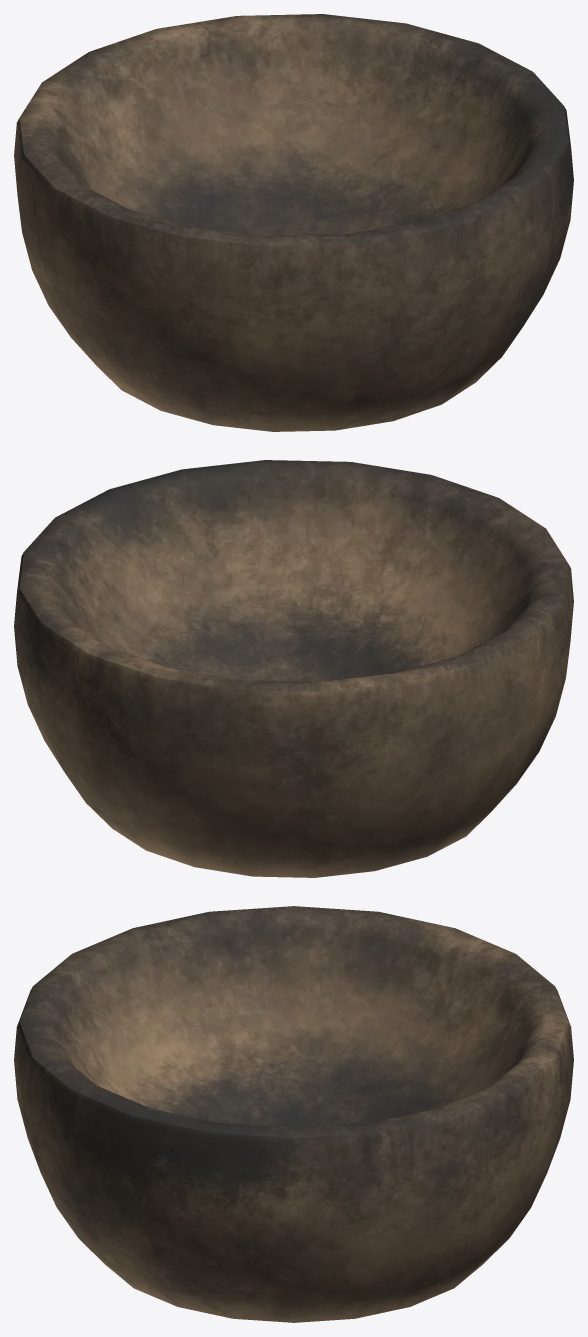
Rendered from fire_bowl.glb.
3 renders of one model, top to bottom at view 1: azimuth 30°, elevation 25°; view 2: azimuth 150°, elevation 25°; view 3: azimuth 270°, elevation 25°, orthographic.
Parts seen in each view (by area): view 1: defaultMaterial; view 2: defaultMaterial; view 3: defaultMaterial.
Part boxes in pixels (x1=…): defaultMaterial: x1=14, y1=14, x2=573, y2=431; defaultMaterial: x1=14, y1=460, x2=573, y2=877; defaultMaterial: x1=14, y1=906, x2=573, y2=1322.
Bounding box in the file's own units: 50 × 21.59 × 50.
Materials: 1 (1 with a texture image).
